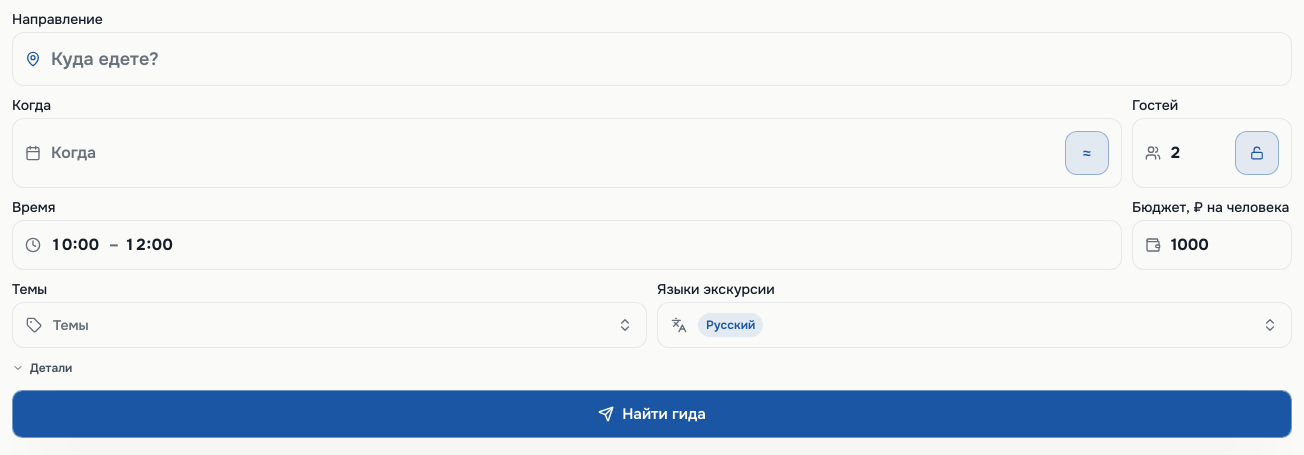
HomepageRequestFormClassic destination typeahead › filters the suggestions while typing «Кав» and closes on Escape
This screenshot has width=1304, height=455.
In the dropdown labelled "Направление": (665,59) top-left (51, 45), bottom-right (1279, 73), type "Кав"
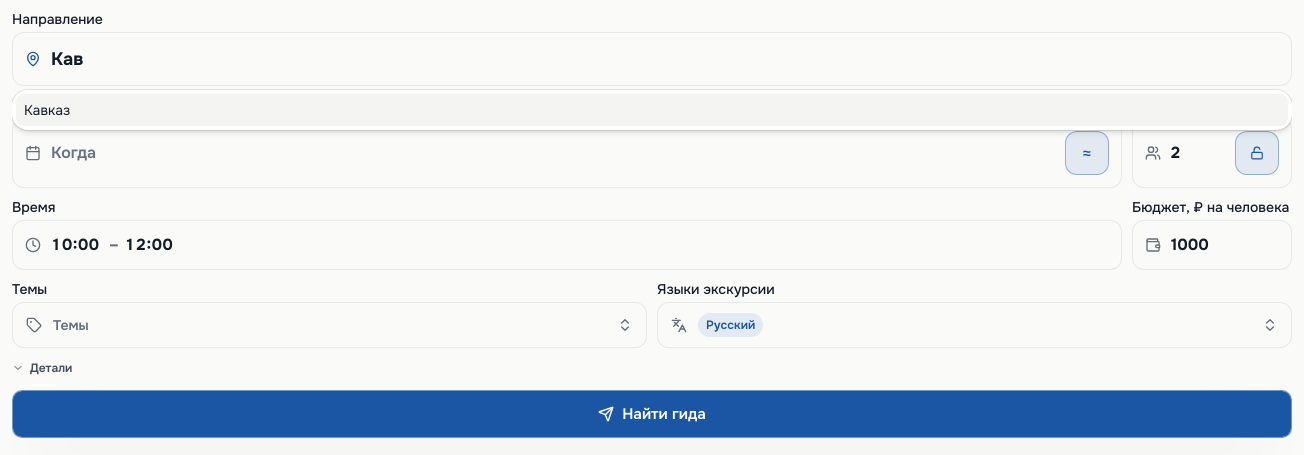
Now the option "Кавказ" is shown, box top-left (16, 94), bottom-right (1288, 126)
Now the dropdown labelled "Направление" is expanded
Press Escape in the dropdown labelled "Направление", box top-left (51, 45), bottom-right (1279, 73)
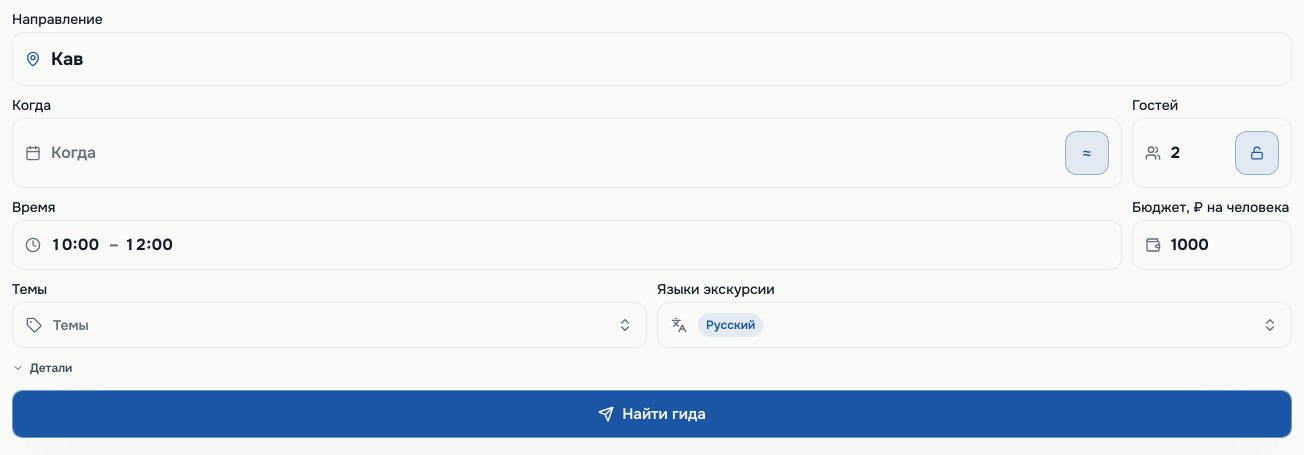
Now the list is gone
